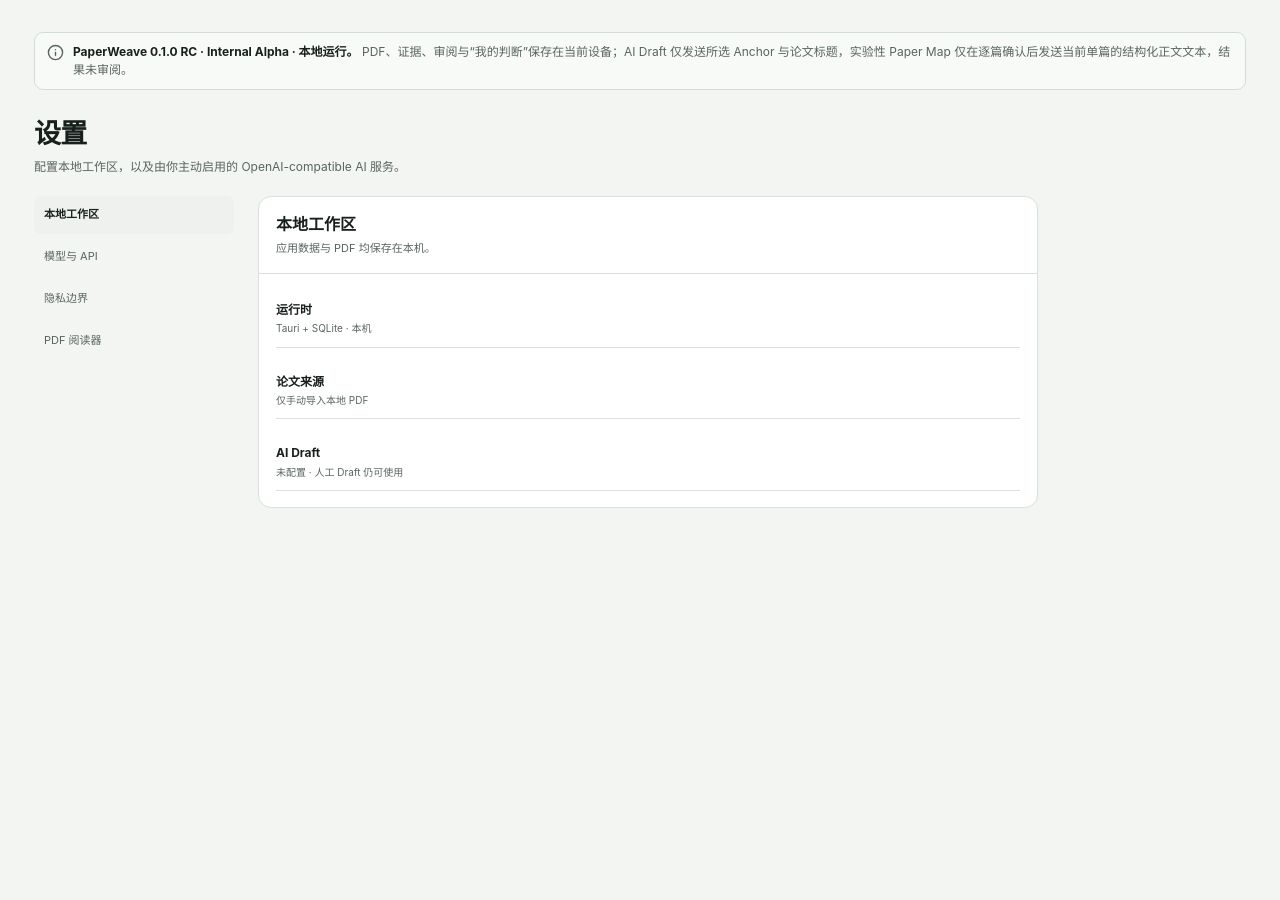
Test case: SettingsPage model configuration › loads the existing PaperWeave credential status and rejects a missing model ID
What coordinates should you click on to do the following:
click the button "模型与 API"
I would click on:
 (134, 256)
Its box is [34, 238, 234, 276].
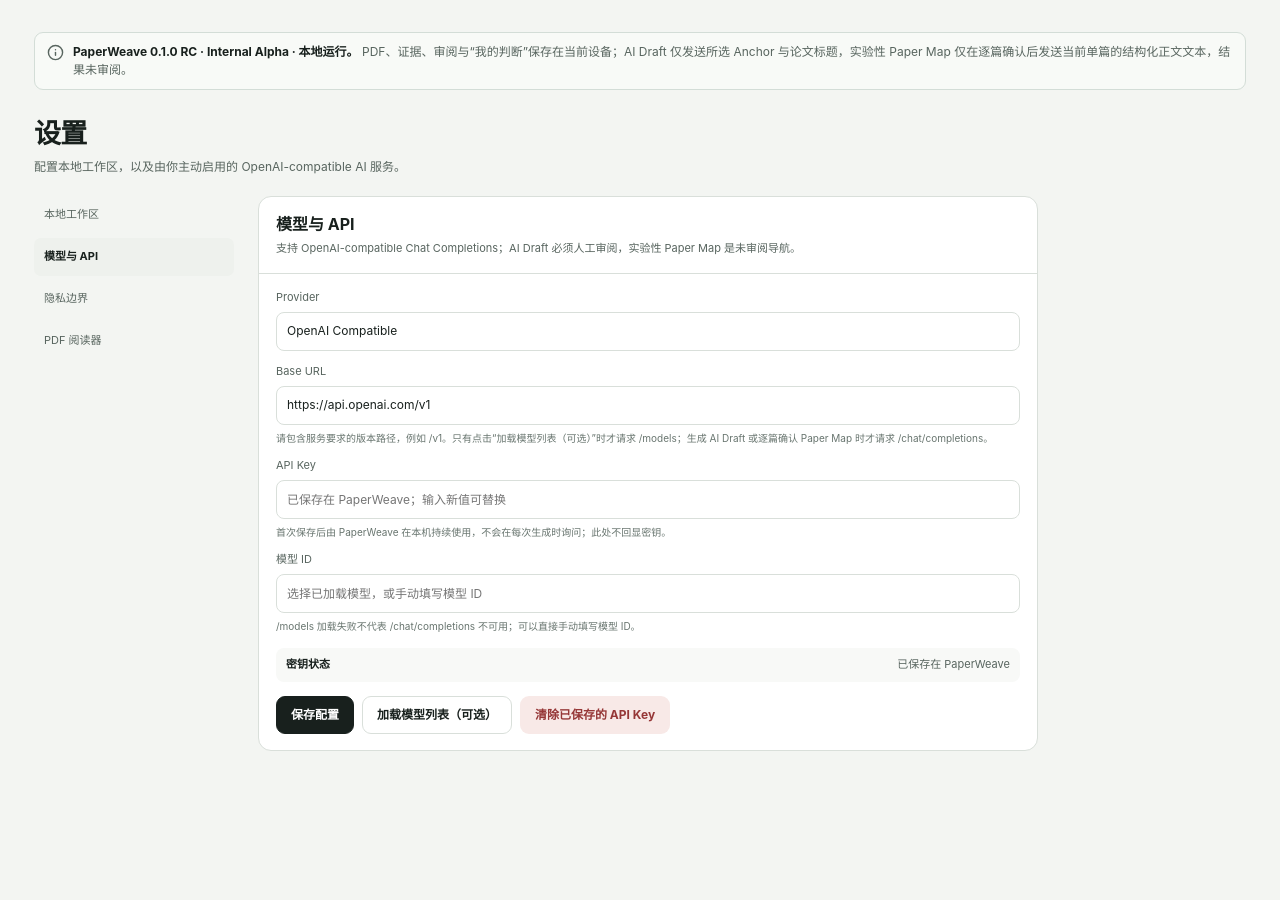
Now the text "已保存在 PaperWeave" is shown, box [897, 657, 1010, 673]
Now the password field labelled "API Key" is empty, box [276, 480, 1020, 519]
What coordinates should you click on to do the following:
click the button "保存配置"
I would click on:
 (315, 715)
Its box is [276, 696, 354, 734].
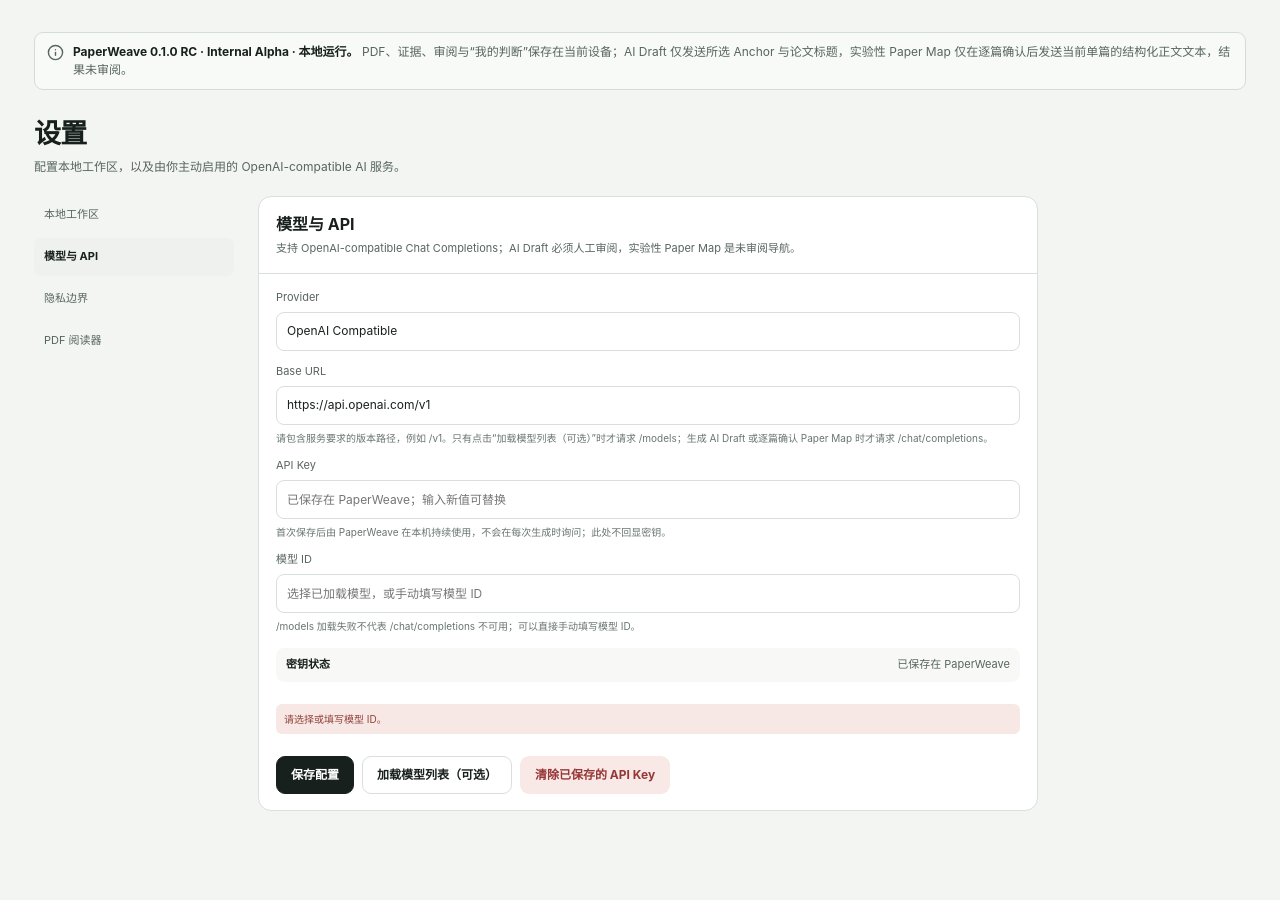
Now the message "请选择或填写模型 ID。" is shown, box [276, 704, 1020, 734]
Now the message reads "请选择或填写模型 ID。", box [284, 713, 387, 725]
